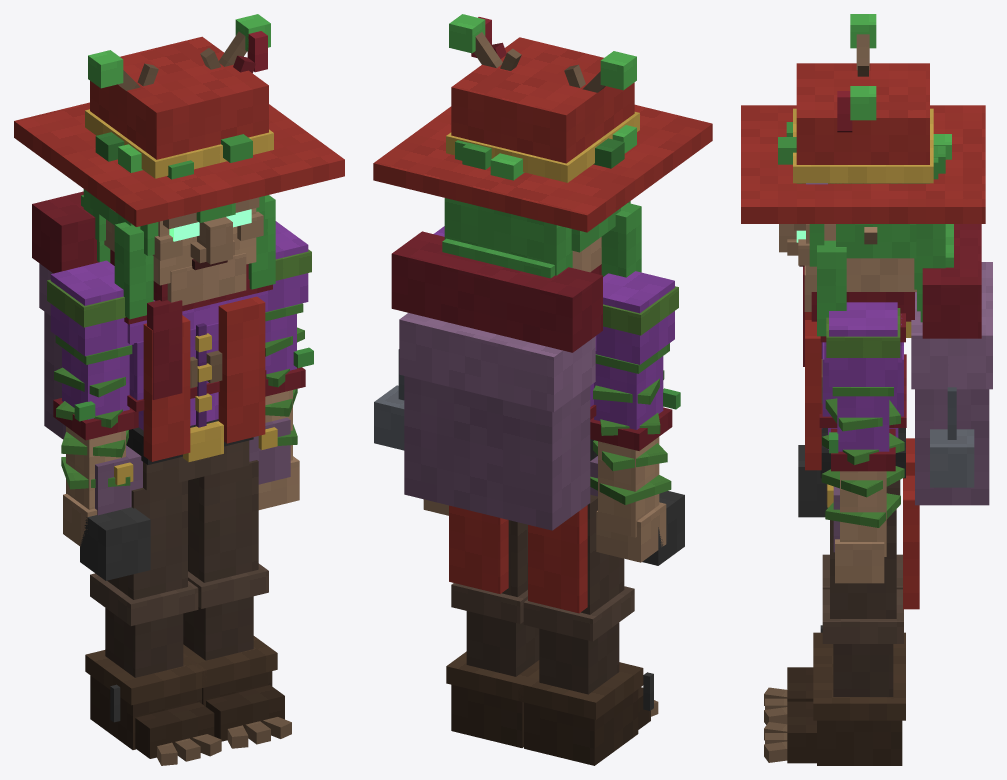
Rendered from dryad_marchand_v3.glb.
3 renders of one model, left to right at view 1: azimuth 30°, elevation 25°; view 2: azimuth 150°, elevation 25°; view 3: azimuth 270°, elevation 25°, orthographic. The views are drawn at different scales.
Visible parts, largest first — view 1: Head, Torso, LegR, LegL, ArmR, ArmL, HandR, Root; view 2: Torso, Head, ArmR, LegR, LegL, HandR; view 3: Head, Torso, ArmL, LegL, LegR, Root, HandR.
Boxes of the visible parts, <box> form: Head: <box>14,14,344,319</box>; Torso: <box>32,191,290,515</box>; LegR: <box>85,480,214,758</box>; LegL: <box>183,460,284,741</box>; ArmR: <box>47,260,138,546</box>; ArmL: <box>258,221,313,509</box>; HandR: <box>80,507,150,722</box>; Root: <box>157,717,291,765</box>; Torso: <box>374,231,602,613</box>; Head: <box>373,14,712,278</box>; ArmR: <box>590,271,680,562</box>; LegR: <box>518,494,650,765</box>; LegL: <box>446,520,539,747</box>; HandR: <box>642,491,684,710</box>; Head: <box>741,14,985,336</box>; Torso: <box>803,224,992,609</box>; ArmL: <box>821,302,904,583</box>; LegL: <box>787,509,905,765</box>; LegR: <box>787,554,905,701</box>; Root: <box>764,687,787,762</box>; HandR: <box>798,445,827,632</box>.
Size of the model in its own units: 0.7466 by 2.02 by 0.68.
43 materials, 43 textured.
